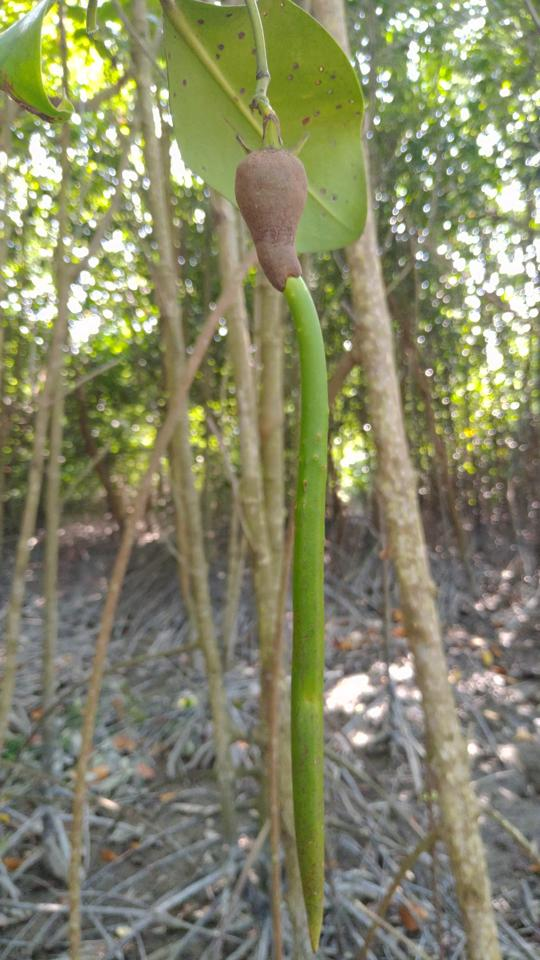mentah: (216, 103, 361, 956)
